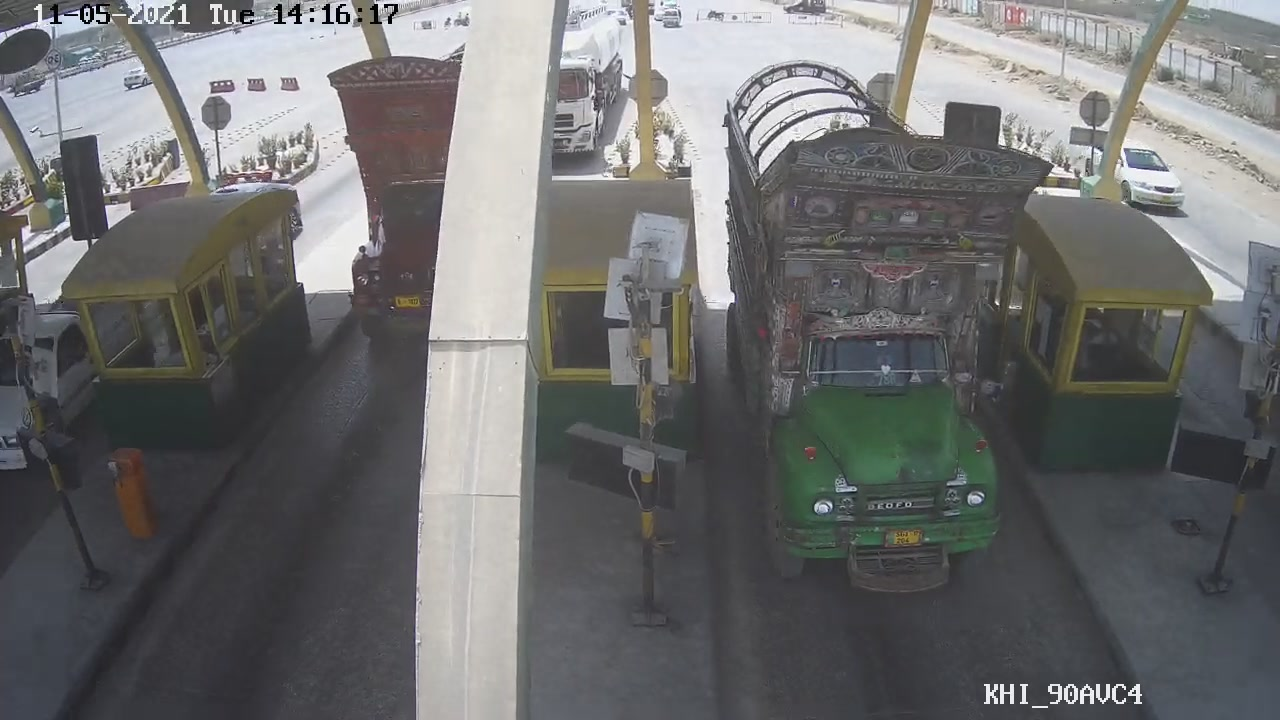F5: (713, 72, 1059, 599)
